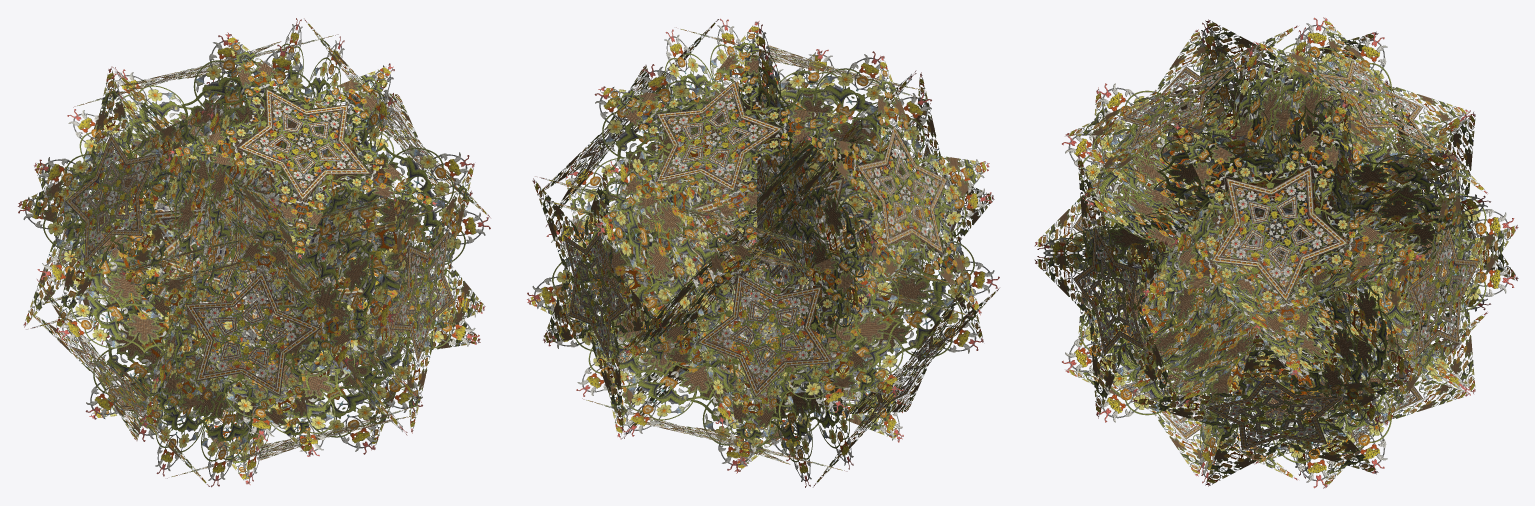
The model's file is 7InvertedSnubDodecadodecahedron.gltf.
The picture shows the model from 3 angles, left to right: view 1: azimuth 30°, elevation 25°; view 2: azimuth 150°, elevation 25°; view 3: azimuth 270°, elevation 25°; orthographic projection.
Parts seen in each view (by area): view 1: InvertedSnubDodecadodecahedron8; view 2: InvertedSnubDodecadodecahedron8; view 3: InvertedSnubDodecadodecahedron8.
Boxes of the visible parts, <box> form: InvertedSnubDodecadodecahedron8: <box>18,18,490,487</box>; InvertedSnubDodecadodecahedron8: <box>527,18,999,487</box>; InvertedSnubDodecadodecahedron8: <box>1034,17,1518,488</box>.
Size of the model in its own units: 1.69 by 1.69 by 1.69.
Materials: 1 (1 with a texture image).
